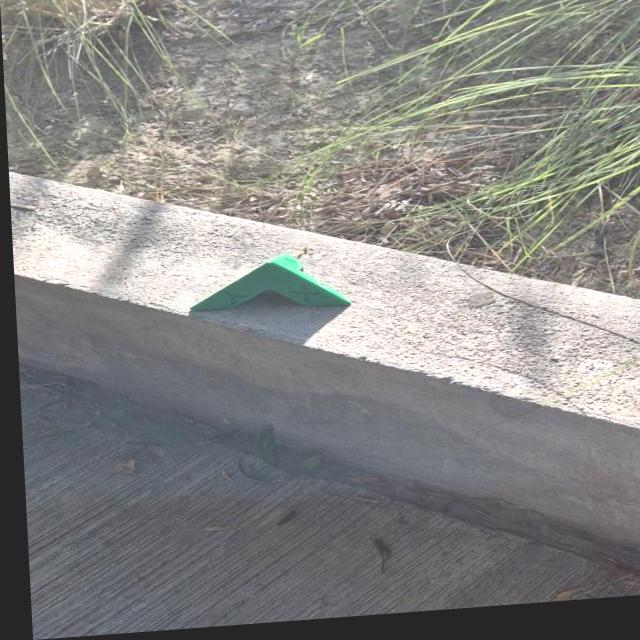eje: (185, 247, 354, 319)
